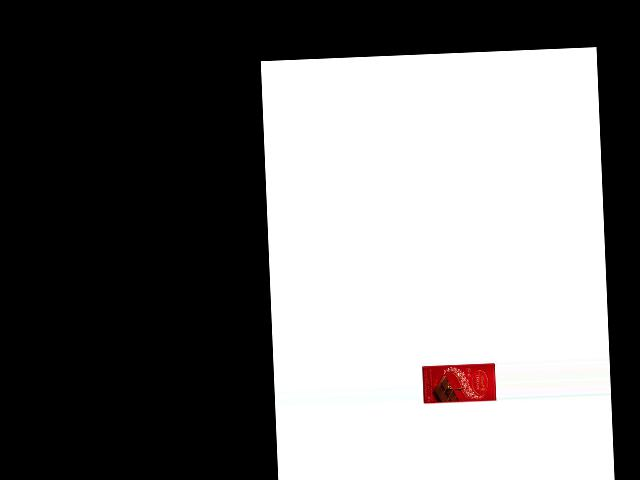chocolate: (422, 361, 496, 407)
